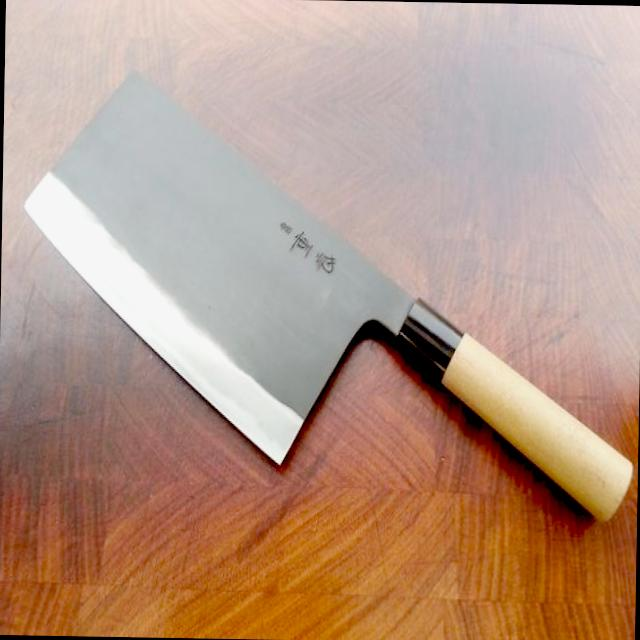cleaver: (16, 63, 640, 561)
